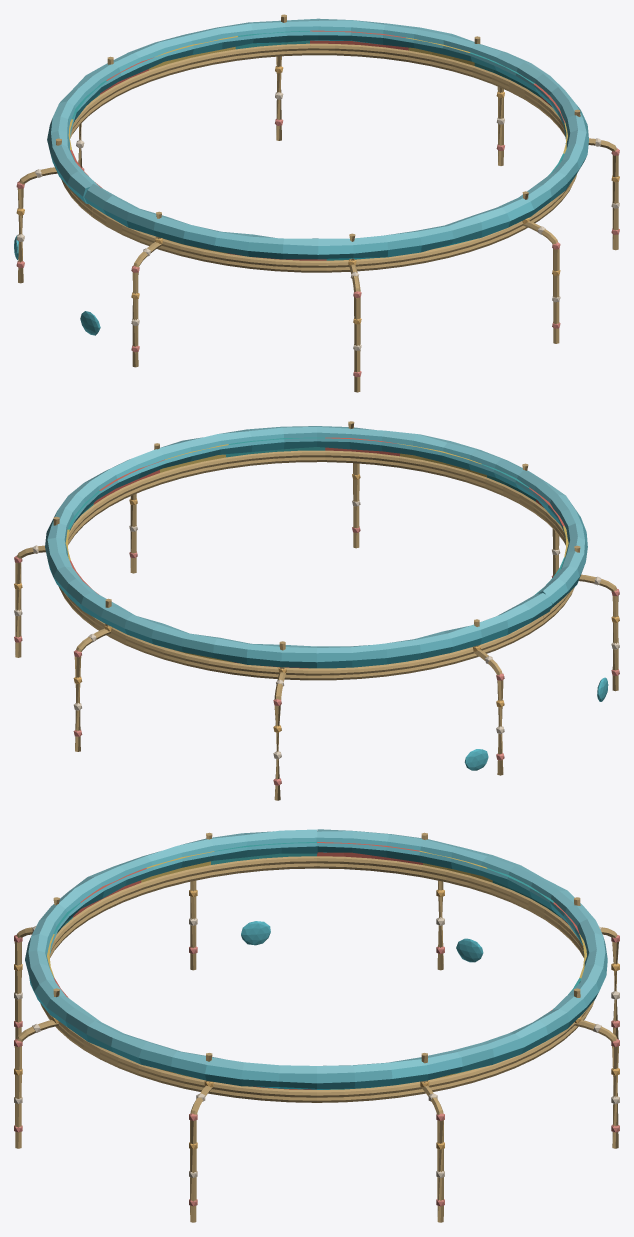
Rendered from goo_jar_trim_1_mid@beach.fbx.
3 views of the same model, one above another, from view 1: azimuth 30°, elevation 25°; view 2: azimuth 150°, elevation 25°; view 3: azimuth 270°, elevation 25° (orthographic). The views are drawn at different scales.
Parts seen in each view (by area): view 1: goo_jar_trim_1_mid; view 2: goo_jar_trim_1_mid; view 3: goo_jar_trim_1_mid.
Part boxes in pixels (box(x1,y1,x2,y2)): goo_jar_trim_1_mid: box(14, 14, 619, 392); goo_jar_trim_1_mid: box(14, 421, 619, 800); goo_jar_trim_1_mid: box(14, 829, 619, 1222).
Bounding box in the file's own units: 60.42 × 16.05 × 58.46.
